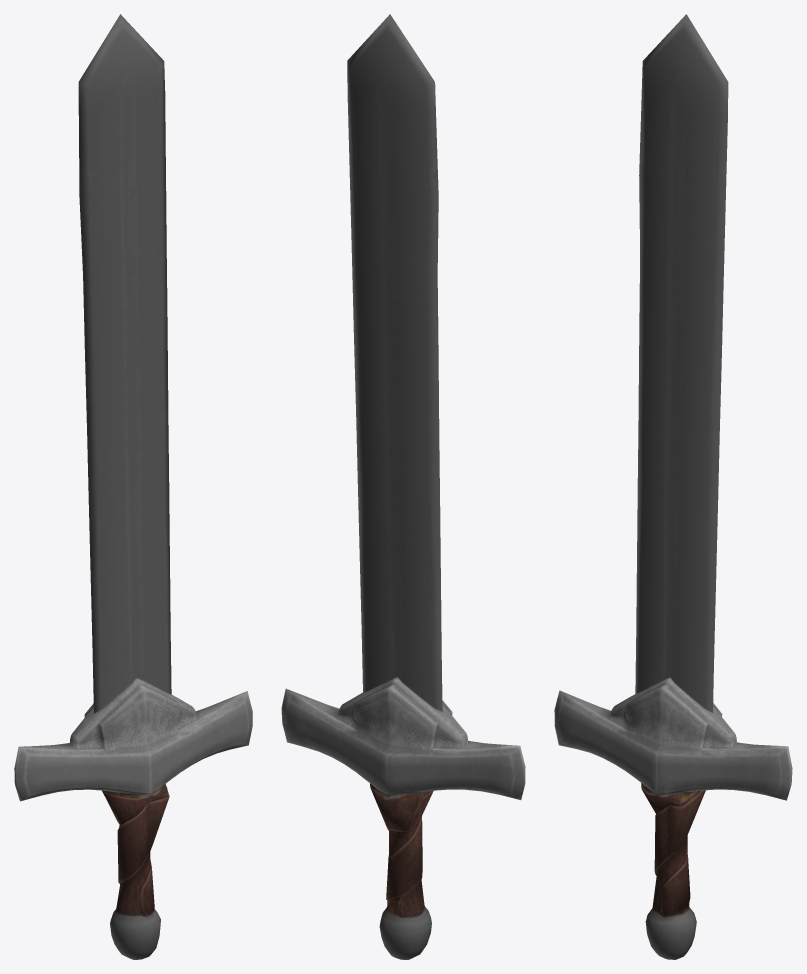
File: sword-3000-v1.glb
3 views of the same model, side by side, from view 1: azimuth 30°, elevation 25°; view 2: azimuth 150°, elevation 25°; view 3: azimuth 330°, elevation 25° (orthographic). The views are drawn at different scales.
Visible parts, largest first — view 1: sword-3000-v1; view 2: sword-3000-v1; view 3: sword-3000-v1.
Boxes of the visible parts, bbox=[...] form: sword-3000-v1: bbox=[14, 14, 252, 959]; sword-3000-v1: bbox=[281, 14, 525, 959]; sword-3000-v1: bbox=[554, 14, 792, 959].
Bounding box in the file's own units: 0.2259 × 0.8454 × 0.0585.
1 material, 1 textured.
